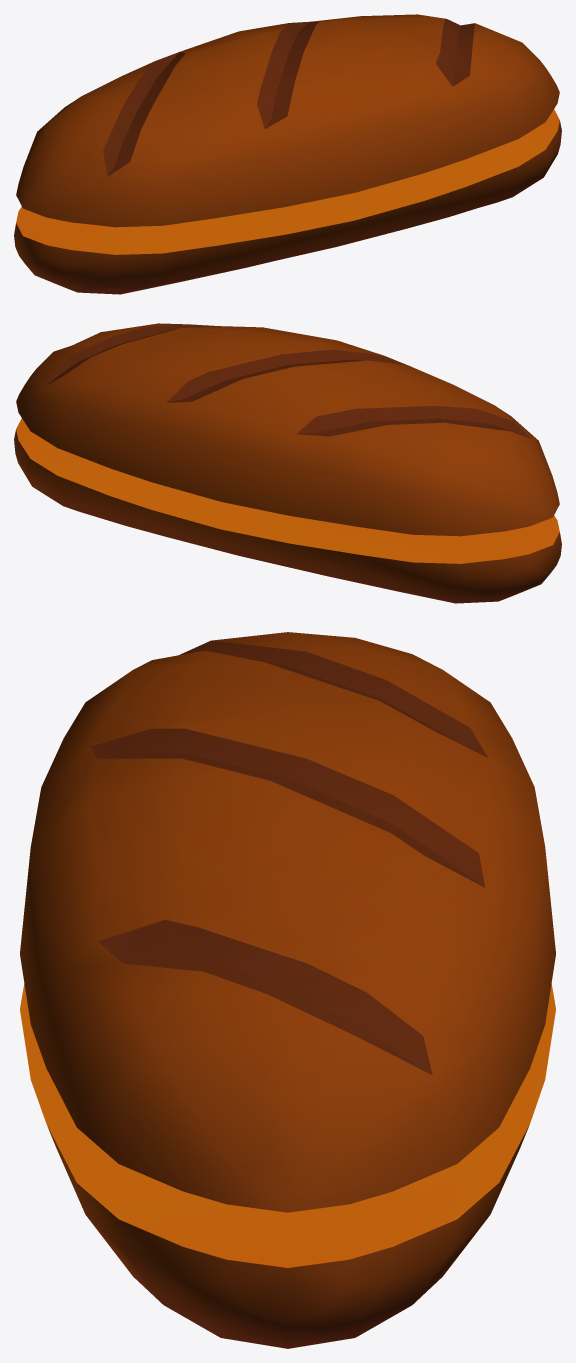
The model's file is Sandwich_Loaf_top.005.fbx.
3 views of the same model, one above another, from view 1: azimuth 30°, elevation 25°; view 2: azimuth 150°, elevation 25°; view 3: azimuth 270°, elevation 25° (orthographic). The views are drawn at different scales.
Visible parts, largest first — view 1: Sandwich_Loaf_top.005, Sandwich_Loaf_Bottom.005; view 2: Sandwich_Loaf_top.005, Sandwich_Loaf_Bottom.005; view 3: Sandwich_Loaf_top.005, Sandwich_Loaf_Bottom.005.
Boxes of the visible parts, x1,y1,x2,y2 form: Sandwich_Loaf_top.005: (16,14,559,227); Sandwich_Loaf_Bottom.005: (14,109,561,294); Sandwich_Loaf_top.005: (16,323,559,536); Sandwich_Loaf_Bottom.005: (14,418,561,603); Sandwich_Loaf_top.005: (20,632,555,1212); Sandwich_Loaf_Bottom.005: (20,984,555,1348).
Size of the model in its own units: 172 by 58.21 by 75.14.
